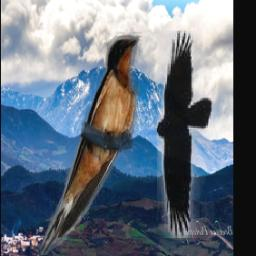Crow: (157, 31, 213, 238)
Swallow: (36, 33, 142, 256)
